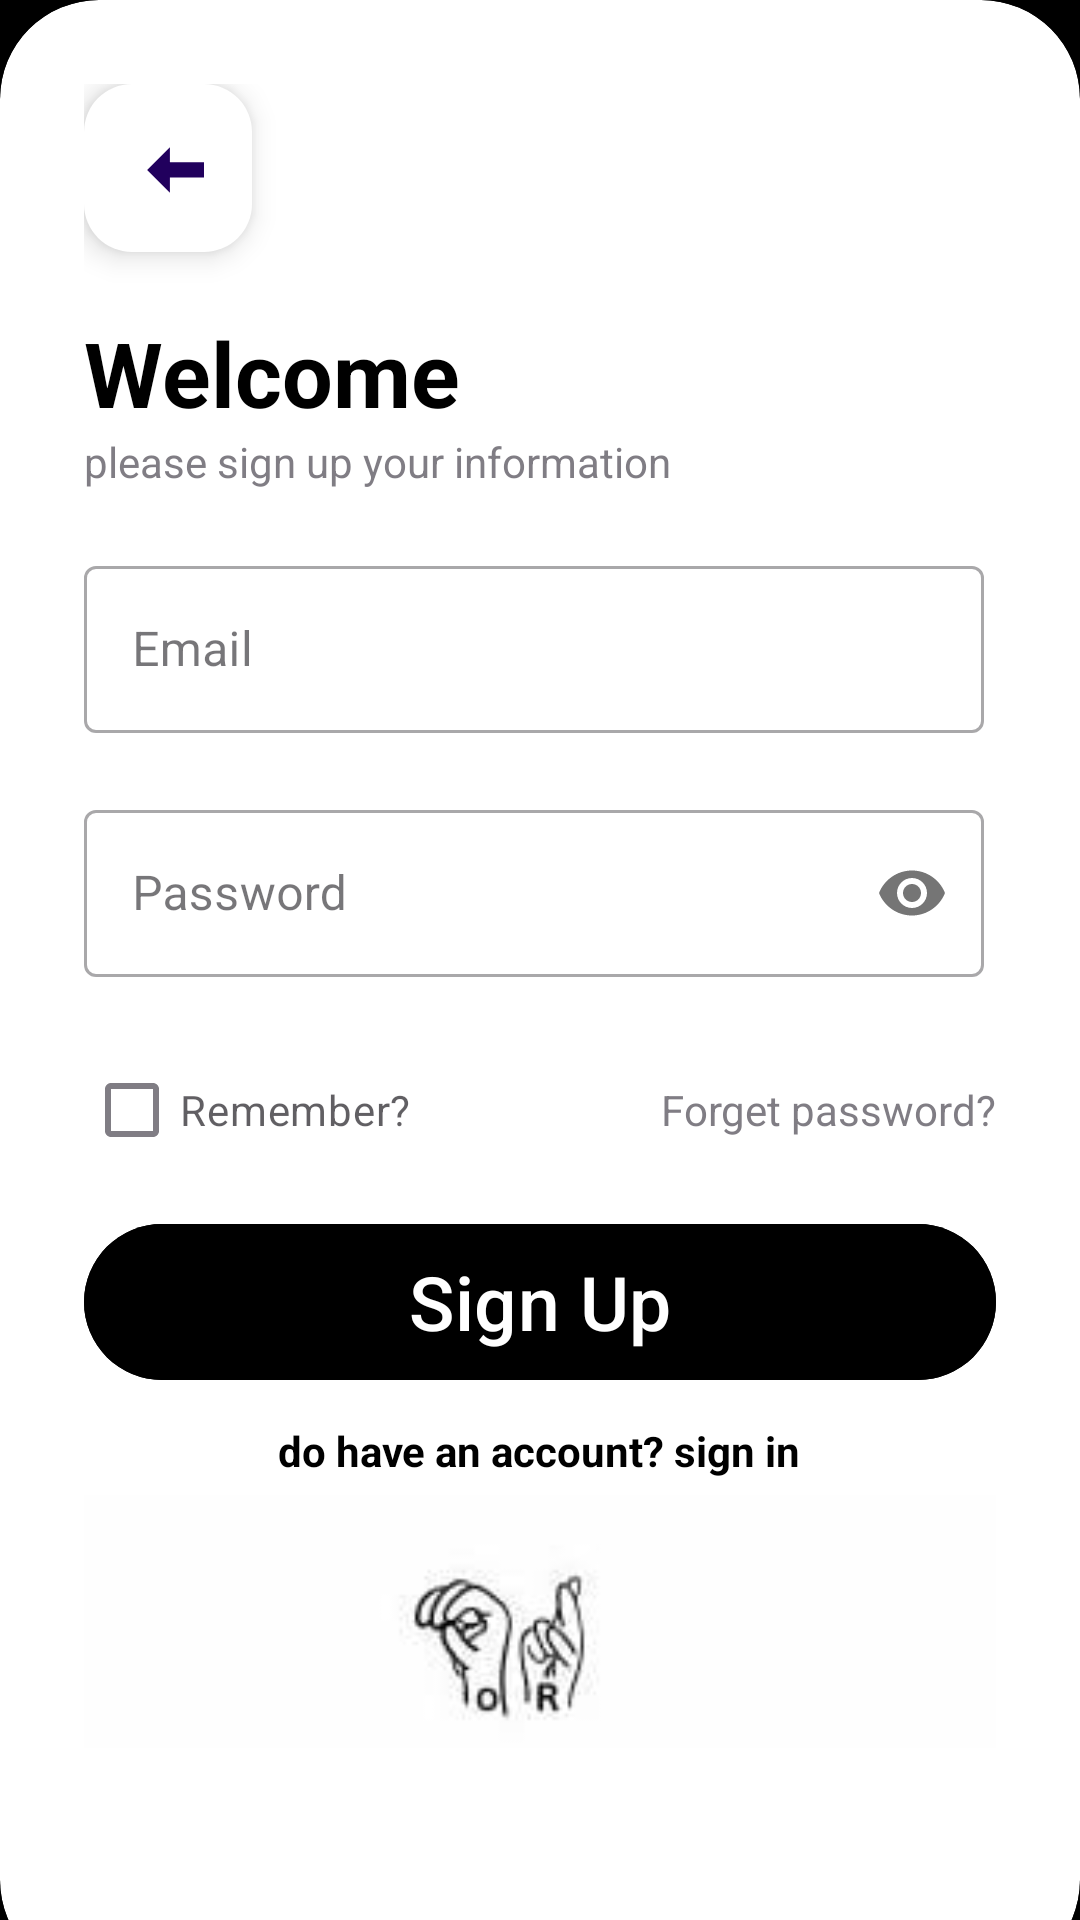

Icon bounding boxes for this 1080px×1920px phone screenshot, format (x1, y1, x2, y2):
arrow back: (84, 91, 218, 252)
